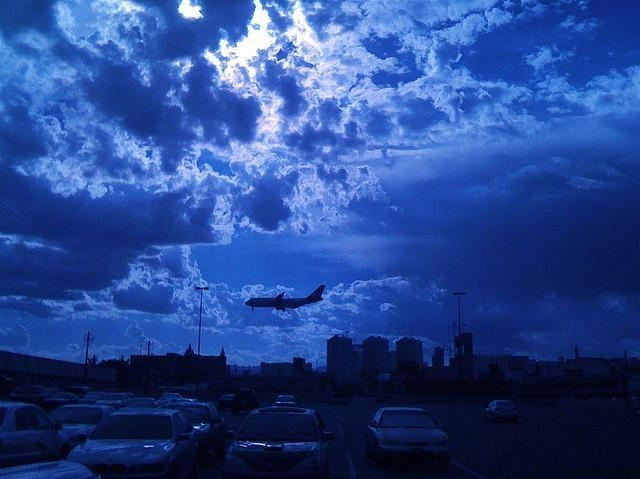car: (67, 406, 199, 479), (222, 403, 337, 478), (359, 407, 451, 471), (162, 396, 230, 466), (0, 402, 70, 468), (49, 404, 112, 456), (485, 400, 518, 424), (230, 390, 259, 416), (96, 394, 130, 408), (156, 392, 182, 404), (272, 395, 296, 406), (219, 393, 235, 405)
motorcycle: (173, 421, 235, 479)
